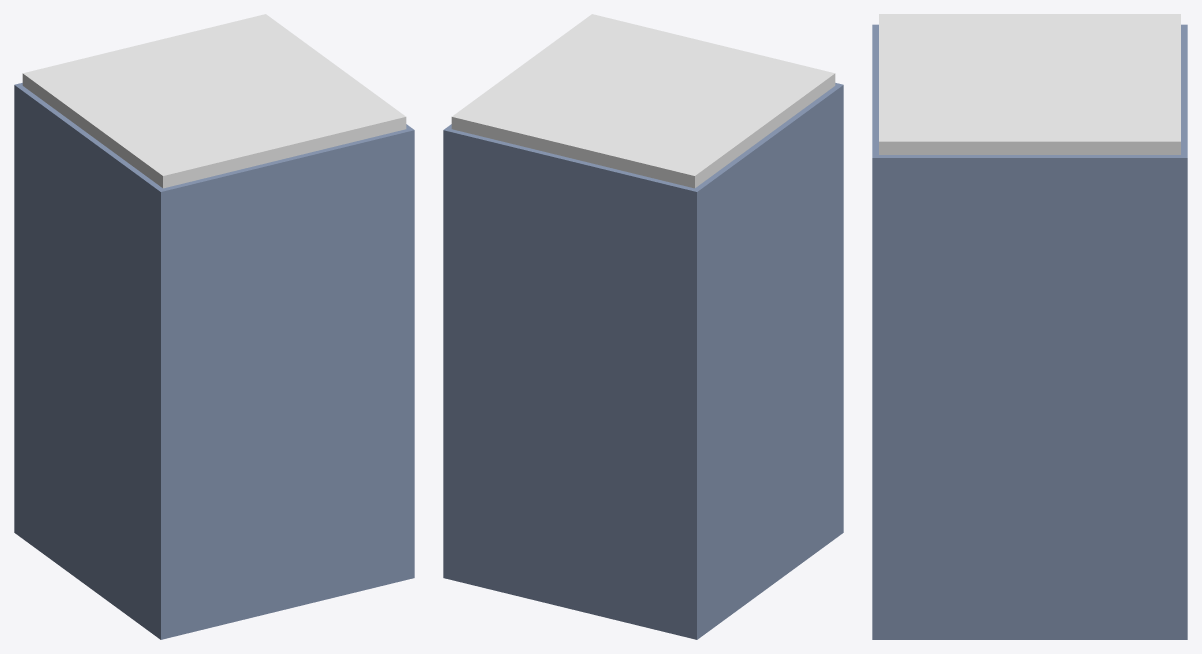
Rendered from WinterRockA_03.fbx.
3 renders of one model, left to right at view 1: azimuth 30°, elevation 25°; view 2: azimuth 150°, elevation 25°; view 3: azimuth 270°, elevation 25°, orthographic. The views are drawn at different scales.
Parts seen in each view (by area): view 1: WinterRockA_03; view 2: WinterRockA_03; view 3: WinterRockA_03.
Part boxes in pixels (<box>): WinterRockA_03: <box>14,14,414,639</box>; WinterRockA_03: <box>443,14,843,639</box>; WinterRockA_03: <box>872,14,1187,639</box>.
Size of the model in its own units: 0.6416 by 1.11 by 0.6417.
